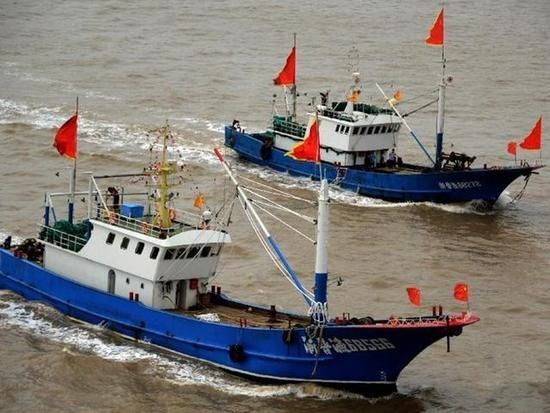otherboat: (6, 118, 485, 391), (209, 63, 546, 218)
